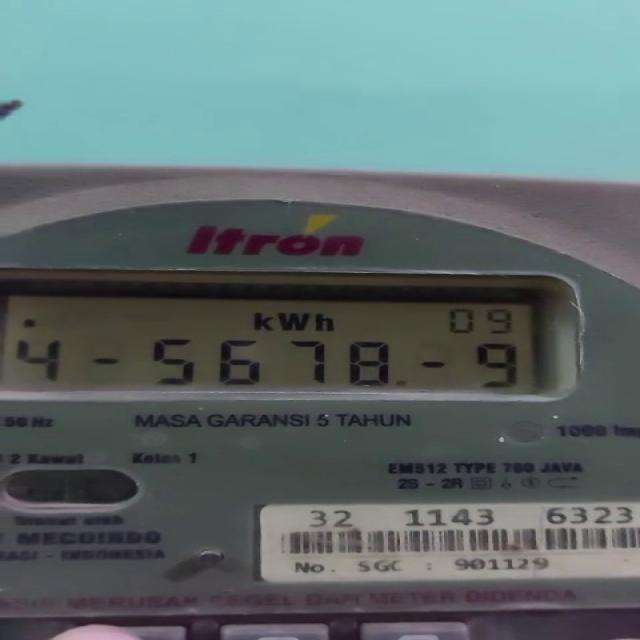LCD: (0, 249, 640, 414)
